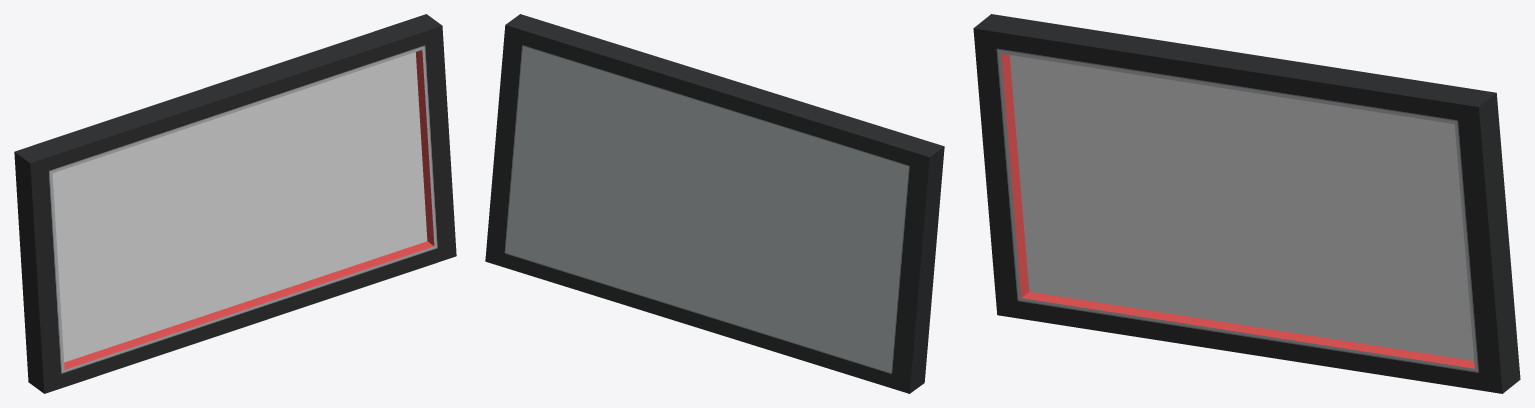
File: photo_wall.fbx
The picture shows the model from 3 angles, left to right: view 1: azimuth 30°, elevation 25°; view 2: azimuth 150°, elevation 25°; view 3: azimuth 330°, elevation 25°; orthographic projection. The views are drawn at different scales.
Visible parts, largest first — view 1: Cube.013; view 2: Cube.013; view 3: Cube.013.
Boxes of the visible parts, x1=… form: Cube.013: x1=14, y1=14, x2=456, y2=393; Cube.013: x1=485, y1=14, x2=944, y2=393; Cube.013: x1=973, y1=14, x2=1520, y2=393.
Size of the model in its own units: 2.2 by 1.31 by 0.1983.
